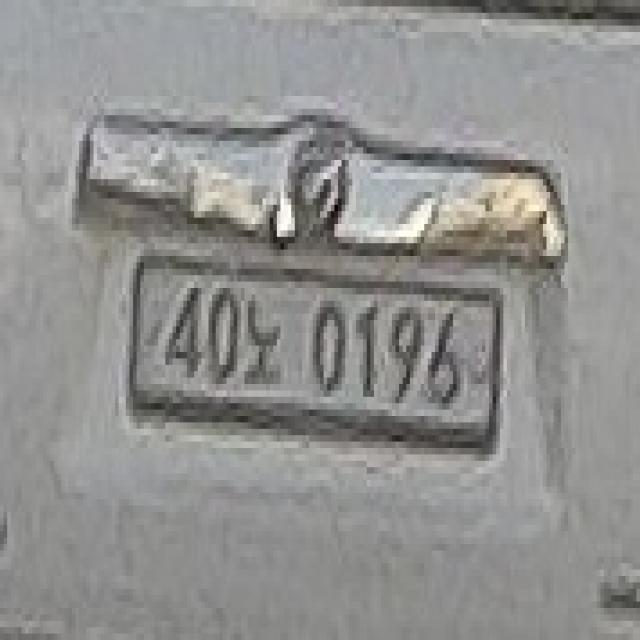0: (309, 294, 349, 404), (205, 288, 237, 384)
1: (349, 301, 381, 403)
4: (166, 282, 202, 391)
6: (424, 300, 460, 410)
9: (385, 300, 424, 410)
license_plate: (129, 256, 507, 448)
no: (241, 294, 284, 390)
